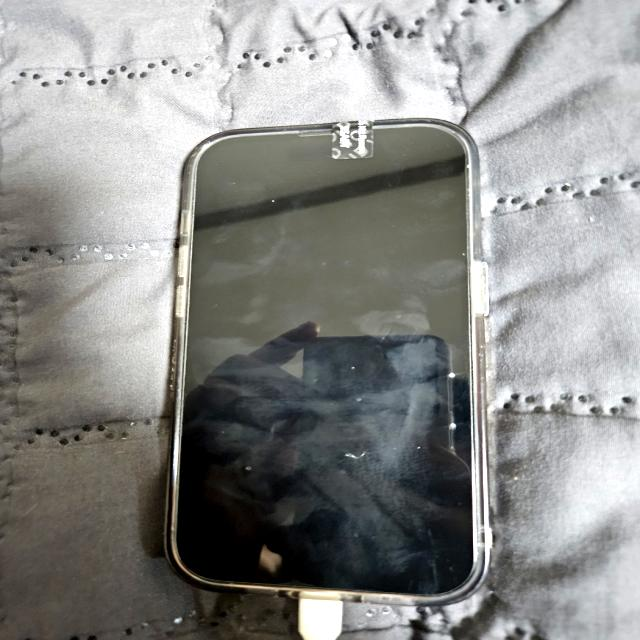phone: (167, 115, 491, 604)
removed_sticker: (332, 121, 374, 158)
